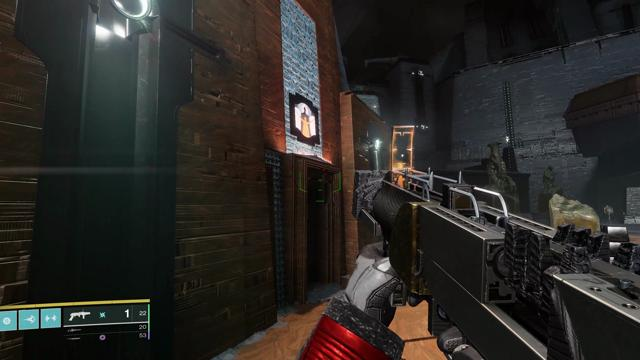worship: (294, 102, 316, 138)
